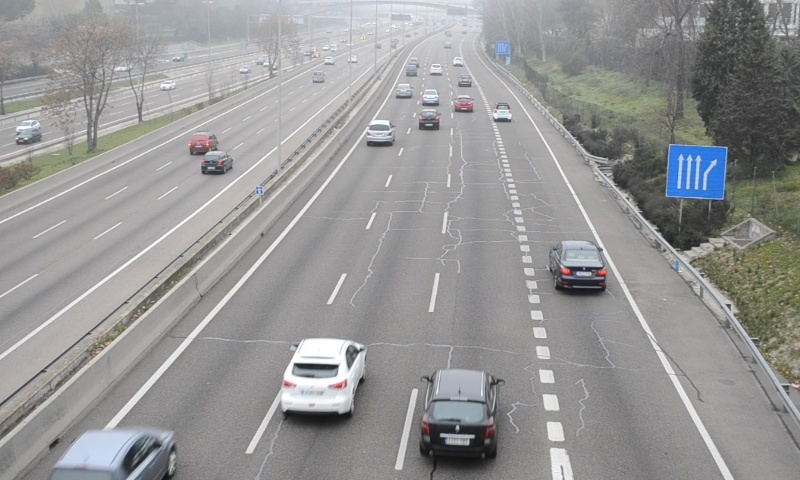car: (278, 338, 367, 422), (420, 368, 500, 458), (548, 239, 608, 294), (365, 120, 396, 147), (418, 108, 440, 131), (492, 102, 513, 122), (454, 95, 474, 113), (394, 83, 414, 99), (422, 88, 439, 106)
